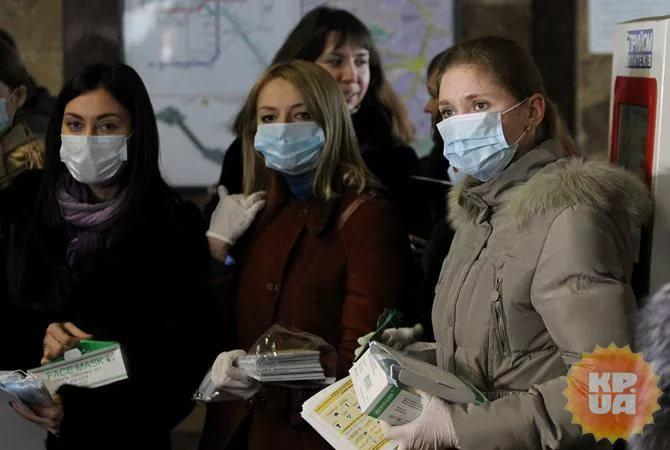mask: (436, 66, 526, 179), (248, 79, 324, 173), (61, 88, 130, 179)
none: (317, 28, 369, 112)
